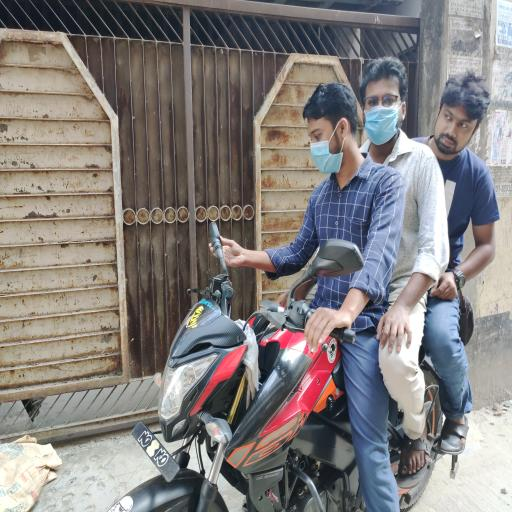overloading: (106, 221, 465, 510)
